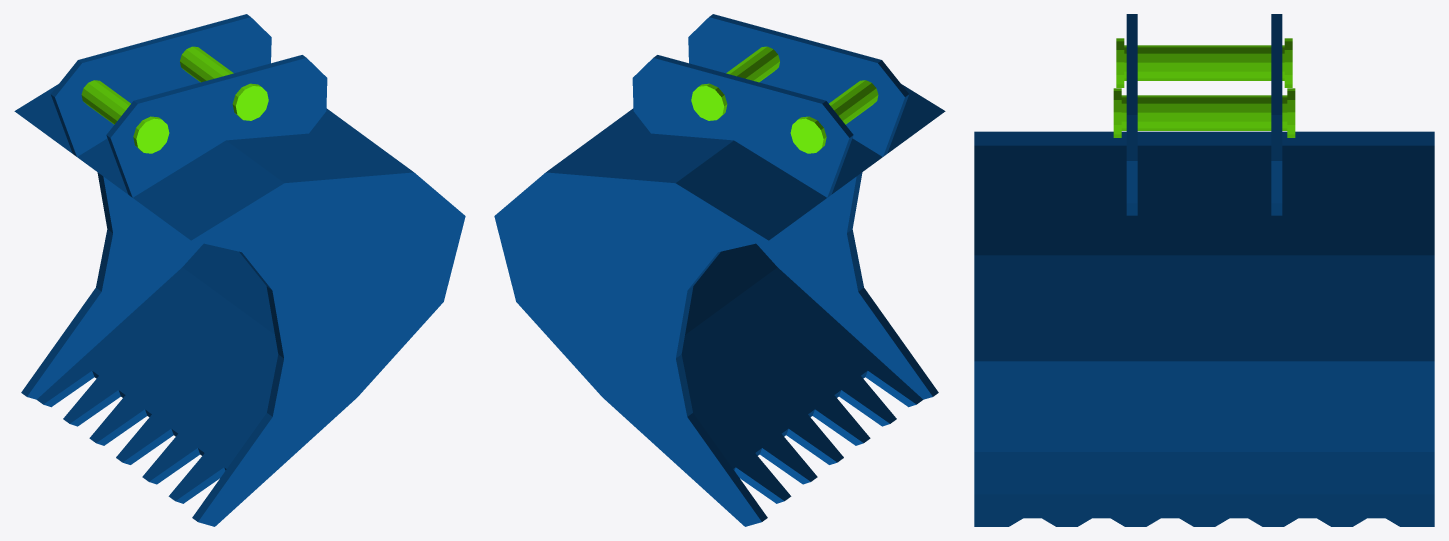
File: kovsh_2.fbx
3 renders of one model, left to right at view 1: azimuth 30°, elevation 25°; view 2: azimuth 150°, elevation 25°; view 3: azimuth 270°, elevation 25°, orthographic. The views are drawn at different scales.
Visible parts, largest first — view 1: Mesh; view 2: Mesh; view 3: Mesh.
Part boxes in pixels (bbox=[...]): Mesh: bbox=[14, 14, 465, 526]; Mesh: bbox=[494, 14, 945, 526]; Mesh: bbox=[974, 14, 1434, 526].
Bounding box in the file's own units: 177 × 223 × 183.
